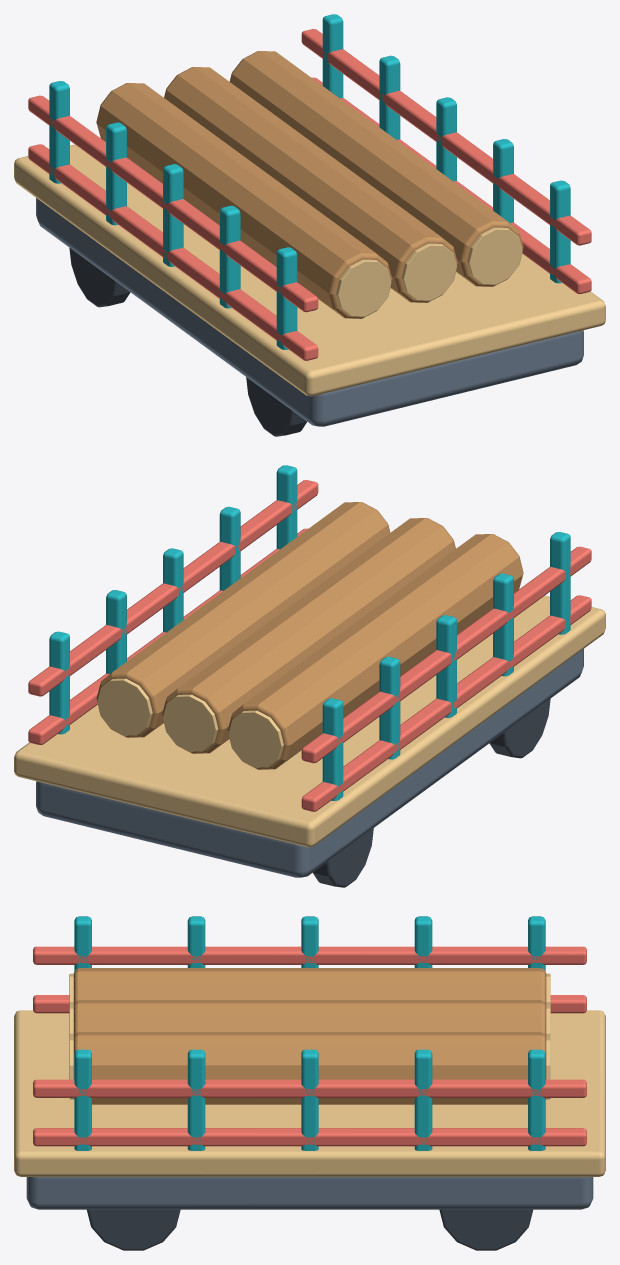
Rendered from FlatbedWagon.fbx.
3 views of the same model, one above another, from view 1: azimuth 30°, elevation 25°; view 2: azimuth 150°, elevation 25°; view 3: azimuth 270°, elevation 25° (orthographic).
Parts seen in each view (by area): view 1: Wooden freight bed, Honey log cargo 0, Wagon iron frame, Honey log cargo 1, Honey log cargo 2, Side rail low, Side rail high, Side rail high.001, Light log end 1, Light log end 2, Light log end 0, Side rail low.001 (+12 smaller); view 2: Wooden freight bed, Honey log cargo 0, Wagon iron frame, Honey log cargo 1, Honey log cargo 2, Side rail high.001, Side rail low, Side rail high, Light log end 1.001, Light log end 2.001, Light log end 0.001, Side rail low.001 (+12 smaller); view 3: Wooden freight bed, Honey log cargo 2, Wagon iron frame, Honey log cargo 0, Honey log cargo 1, Side rail low.001, Side rail high, Side rail high.001, Wagon wheel.002, Wagon wheel.003, Teal side post.006, Teal side post.008 (+9 smaller).
Boxes of the visible parts, <box> form: Wooden freight bed: <box>14,144,605,396</box>; Honey log cargo 0: <box>96,83,392,318</box>; Wagon iron frame: <box>36,198,583,426</box>; Honey log cargo 1: <box>164,67,457,302</box>; Honey log cargo 2: <box>229,51,523,286</box>; Side rail low: <box>28,144,318,360</box>; Side rail high: <box>28,95,318,312</box>; Side rail high.001: <box>301,29,591,245</box>; Light log end 1: <box>401,243,456,300</box>; Light log end 2: <box>467,227,522,284</box>; Light log end 0: <box>336,259,391,316</box>; Side rail low.001: <box>312,77,591,293</box>; Wooden freight bed: <box>14,595,605,847</box>; Honey log cargo 0: <box>227,534,523,769</box>; Wagon iron frame: <box>36,649,583,877</box>; Honey log cargo 1: <box>162,518,455,753</box>; Honey log cargo 2: <box>96,502,390,737</box>; Side rail high.001: <box>28,480,318,696</box>; Side rail low: <box>301,595,591,811</box>; Side rail high: <box>301,546,591,763</box>; Light log end 1.001: <box>163,694,218,751</box>; Light log end 2.001: <box>97,678,152,735</box>; Light log end 0.001: <box>228,710,283,767</box>; Side rail low.001: <box>28,528,307,744</box>; Wooden freight bed: <box>14,1010,605,1176</box>; Honey log cargo 2: <box>73,1032,546,1104</box>; Wagon iron frame: <box>26,1177,593,1209</box>; Honey log cargo 0: <box>73,968,546,1004</box>; Honey log cargo 1: <box>73,1000,546,1036</box>; Side rail low.001: <box>33,1128,586,1146</box>; Side rail high: <box>33,946,586,964</box>; Side rail high.001: <box>33,1079,586,1097</box>; Wagon wheel.002: <box>87,1209,180,1250</box>; Wagon wheel.003: <box>439,1209,532,1250</box>; Teal side post.006: <box>187,1049,205,1150</box>; Teal side post.008: <box>414,1049,432,1150</box>.
Size of the model in its own units: 550 by 356 by 940.
